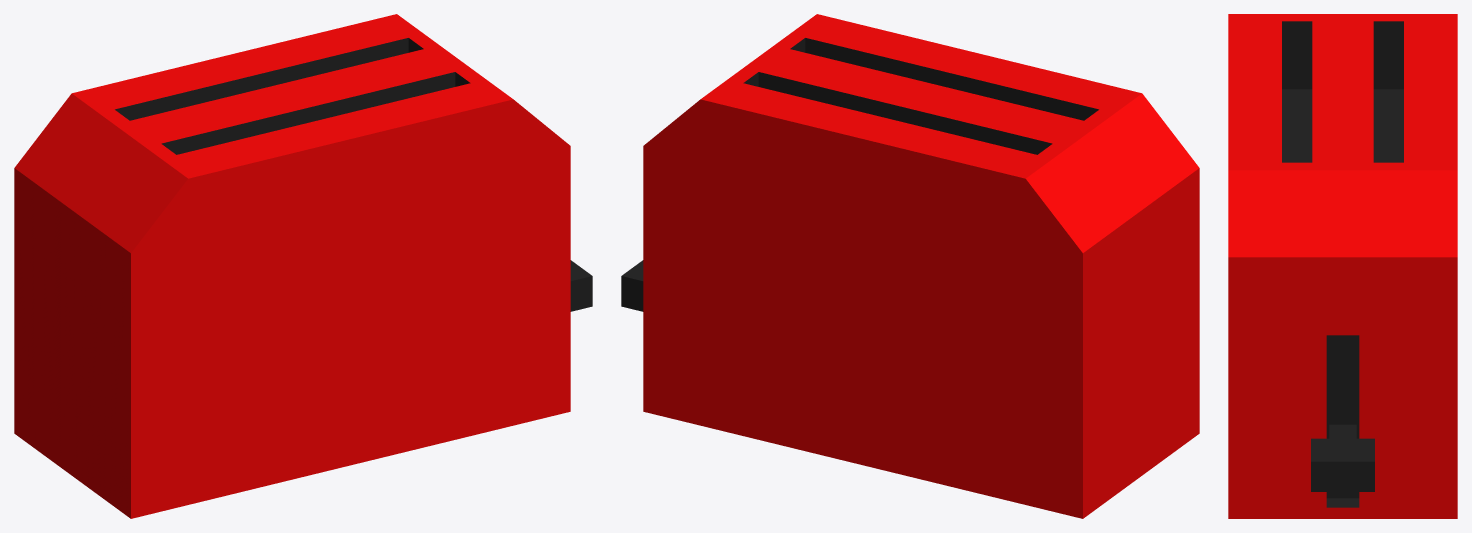
Rendered from toaster4_PLY.fbx.
3 views of the same model, side by side, from view 1: azimuth 30°, elevation 25°; view 2: azimuth 150°, elevation 25°; view 3: azimuth 270°, elevation 25° (orthographic).
Parts seen in each view (by area): view 1: toaster4_PLY; view 2: toaster4_PLY; view 3: toaster4_PLY.
Part boxes in pixels (x1,y1,x2,y2): toaster4_PLY: (14, 14, 592, 518); toaster4_PLY: (621, 14, 1199, 518); toaster4_PLY: (1228, 14, 1457, 518).
Size of the model in its own units: 1.51 by 0.9352 by 0.6059.
